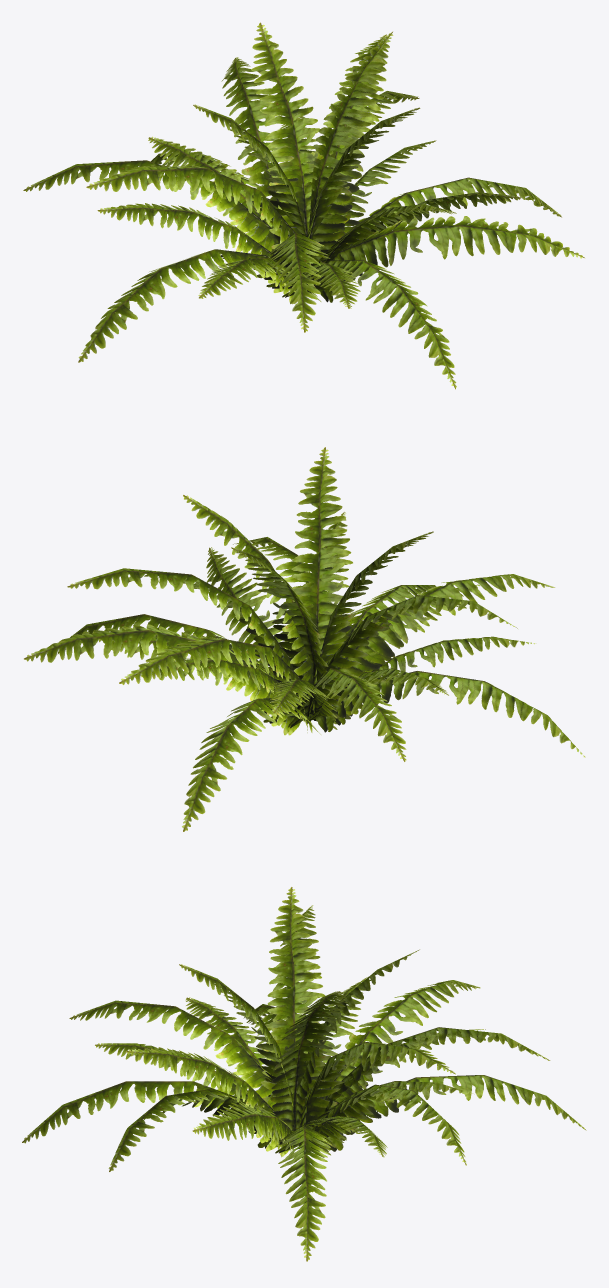
The model's file is fern2.FBX.
3 renders of one model, top to bottom at view 1: azimuth 30°, elevation 25°; view 2: azimuth 150°, elevation 25°; view 3: azimuth 270°, elevation 25°, orthographic. The views are drawn at different scales.
Parts seen in each view (by area): view 1: fern2; view 2: fern2; view 3: fern2.
Part boxes in pixels (x1=…): fern2: x1=23, y1=22, x2=584, y2=389; fern2: x1=24, y1=447, x2=585, y2=831; fern2: x1=22, y1=887, x2=586, y2=1261.
Size of the model in its own units: 27.97 by 12.31 by 28.13.
